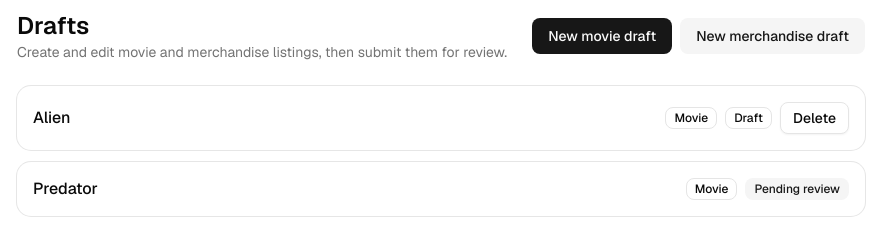
DraftsPage › shows Delete only for Draft-status drafts, and removes the draft from the list on confirm
Expected: the text "Alien" is shown, [33,107,70,128]
Step 1. Click the button "Delete" → (814, 118), box [780,102,849,134]
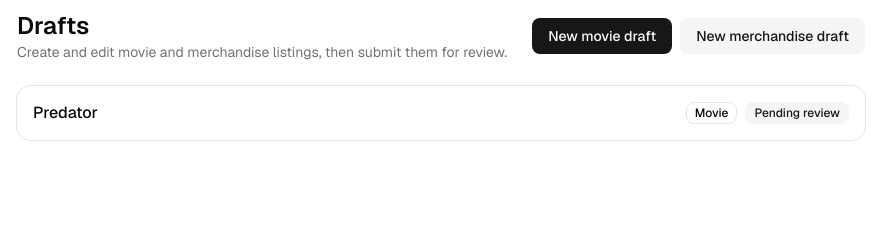
Expected: the text "Predator" is shown, [33,102,98,123]
Expected: the link "Alien" is gone
